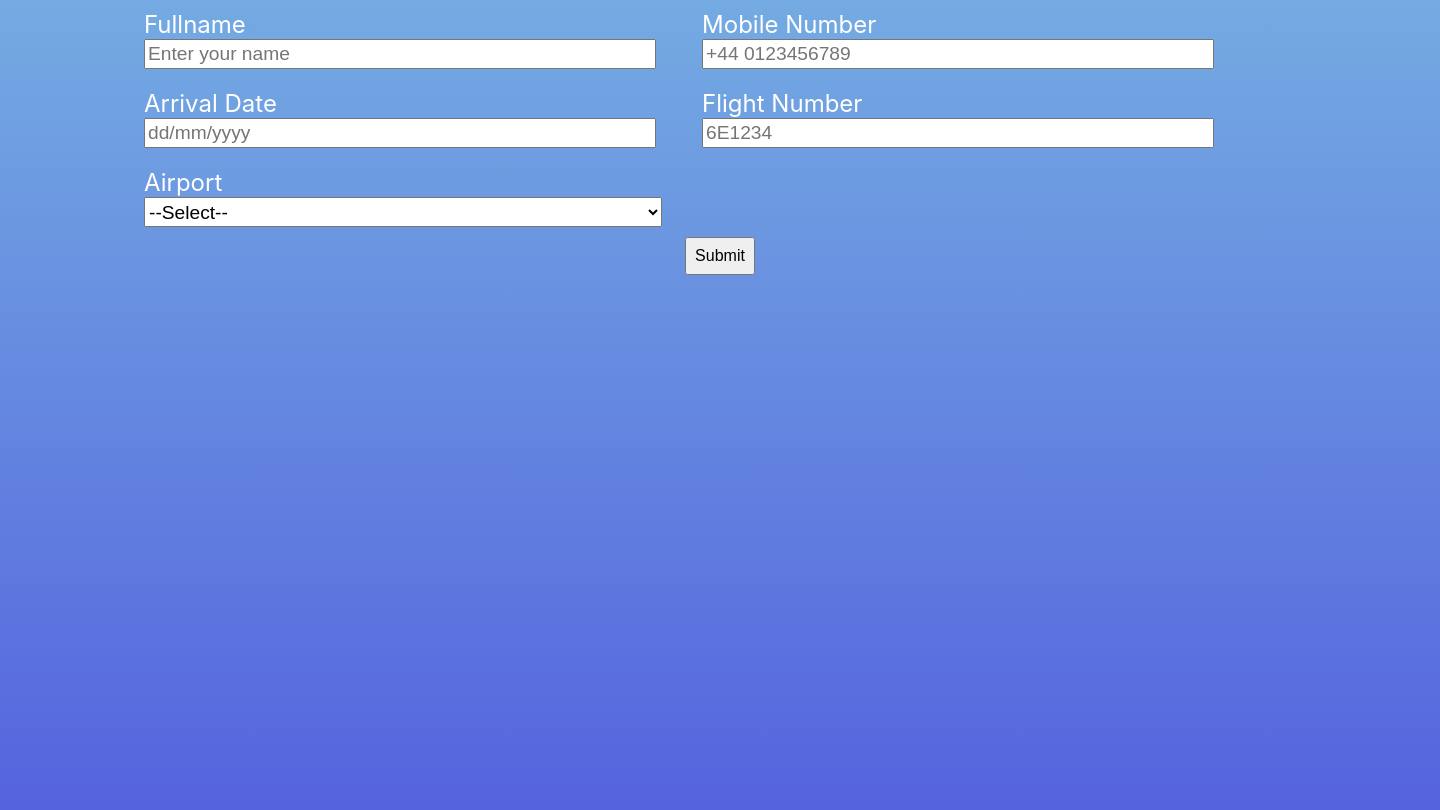
it: should show error for invalid mobile number
Type "123" into the field labelled "Mobile Number". click: (958,54)
box: [702,39,1214,69]
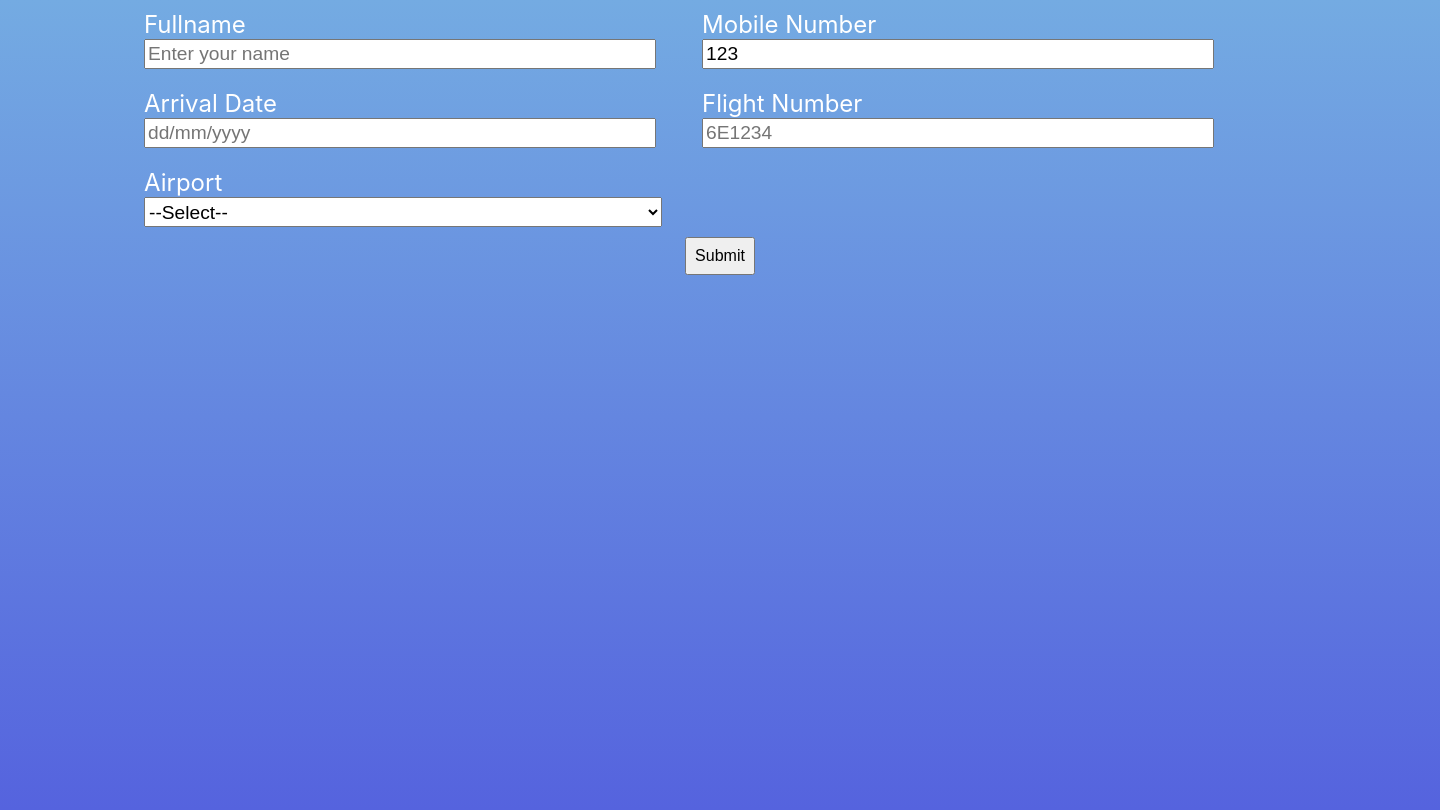
Click the button "Submit". click: (720,256)
box: [685,237,755,275]
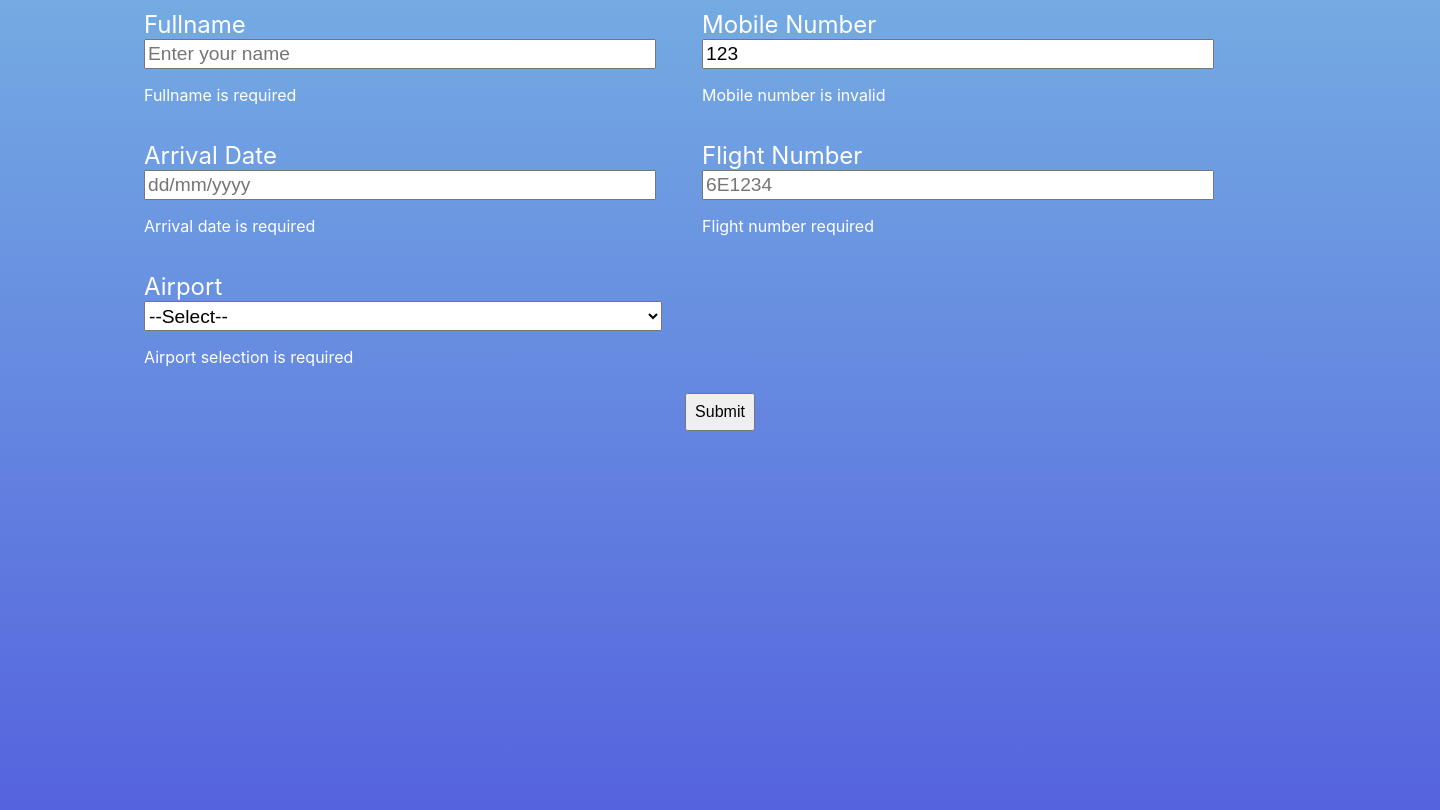
Expected: the text "Mobile number is invalid" is shown, [702,85,886,105]
